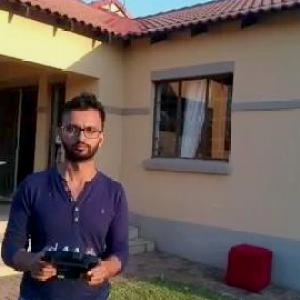follow: (0, 87, 132, 299)
